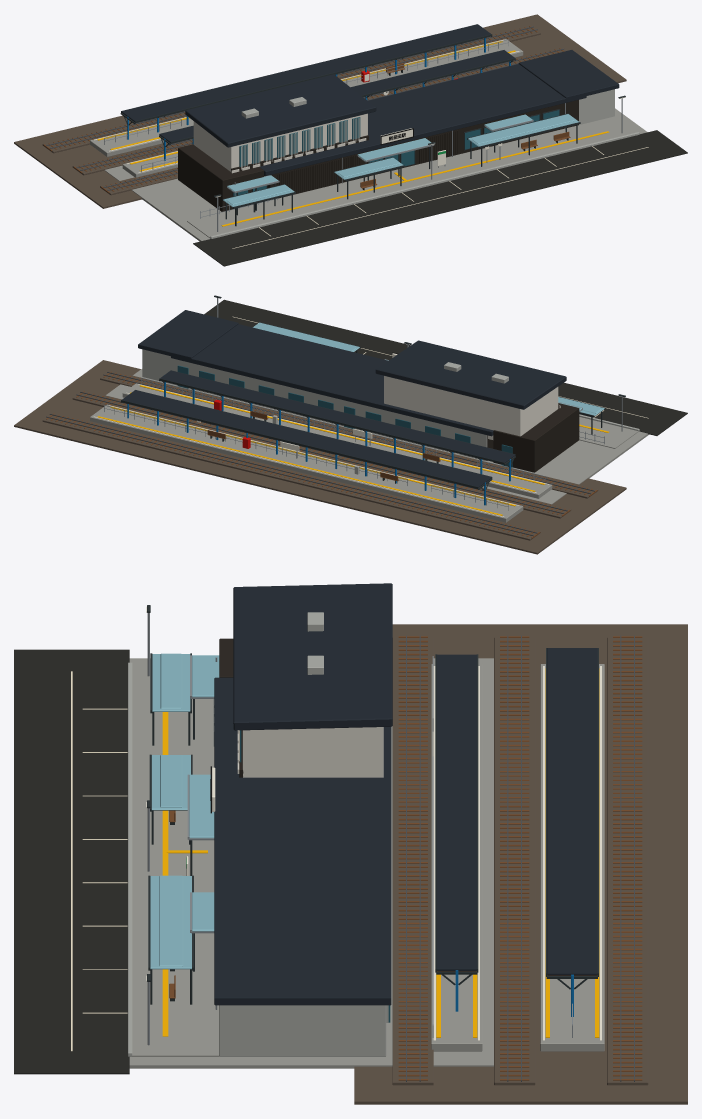
Rendered from shibata_station.glb.
3 renders of one model, top to bottom at view 1: azimuth 30°, elevation 25°; view 2: azimuth 150°, elevation 25°; view 3: azimuth 270°, elevation 25°, orthographic. The views are drawn at different scales.
Parts seen in each view (by area): view 1: 統合_黒い屋根, 統合_コンクリート, 駅前道路, 統合_線路砂利, 統合_黒い縦格子, 統合_白い外壁, 統合_窓枠, 統合_半透明屋根, 統合_薄い灰色の壁, 統合_暗いガラス, 統合_レール, 統合_ホーム屋根裏 (+5 smaller); view 2: 統合_黒い屋根, 統合_線路砂利, 統合_コンクリート, 駅前道路, 統合_白い外壁, 統合_薄い灰色の壁, 統合_レール, 統合_ホーム屋根裏, 統合_黒い縦格子, 統合_窓枠, 統合_点字ブロック, 統合_金属 (+4 smaller); view 3: 統合_黒い屋根, 統合_線路砂利, 駅前道路, 統合_コンクリート, 統合_ホーム屋根裏, 統合_半透明屋根, 統合_薄い灰色の壁, 統合_白い外壁, 統合_窓枠, 統合_レール, 統合_看板白, 統合_点字ブロック (+2 smaller).
Part boxes in pixels (box(x1,y1,x2,y2)): 統合_黒い屋根: box(121, 24, 619, 175); 統合_コンクリート: box(90, 39, 647, 241); 駅前道路: box(193, 130, 687, 266); 統合_線路砂利: box(14, 14, 626, 208); 統合_黒い縦格子: box(178, 100, 578, 211); 統合_白い外壁: box(193, 113, 367, 173); 統合_窓枠: box(120, 24, 625, 226); 統合_半透明屋根: box(223, 114, 578, 206); 統合_薄い灰色の壁: box(210, 89, 639, 238); 統合_暗いガラス: box(233, 110, 559, 196); 統合_レール: box(46, 26, 563, 190); 統合_ホーム屋根裏: box(43, 26, 570, 193); 統合_黒い屋根: box(122, 310, 566, 487); 統合_線路砂利: box(14, 360, 626, 554); 統合_コンクリート: box(90, 369, 649, 522); 駅前道路: box(204, 299, 687, 435); 統合_白い外壁: box(384, 376, 560, 439); 統合_薄い灰色の壁: box(142, 349, 639, 474); 統合_レール: box(46, 372, 594, 536); 統合_ホーム屋根裏: box(46, 371, 597, 538); 統合_黒い縦格子: box(199, 390, 579, 472); 統合_窓枠: box(120, 295, 625, 490); 統合_点字ブロック: box(97, 385, 609, 515); 統合_金属: box(104, 298, 622, 510); 統合_黒い屋根: box(214, 583, 597, 1005); 統合_線路砂利: box(354, 624, 687, 1104); 駅前道路: box(14, 649, 129, 1074); 統合_コンクリート: box(129, 658, 604, 1068); 統合_ホーム屋根裏: box(169, 636, 642, 1080); 統合_半透明屋根: box(150, 653, 219, 969); 統合_薄い灰色の壁: box(128, 612, 388, 1056); 統合_白い外壁: box(237, 727, 383, 777); 統合_窓枠: box(147, 605, 598, 1004); 統合_レール: box(406, 635, 634, 1081); 統合_看板白: box(146, 606, 601, 1040); 統合_点字ブロック: box(162, 668, 599, 1037).
Bounding box in the file's own units: 88 × 11.5 × 52.5.
